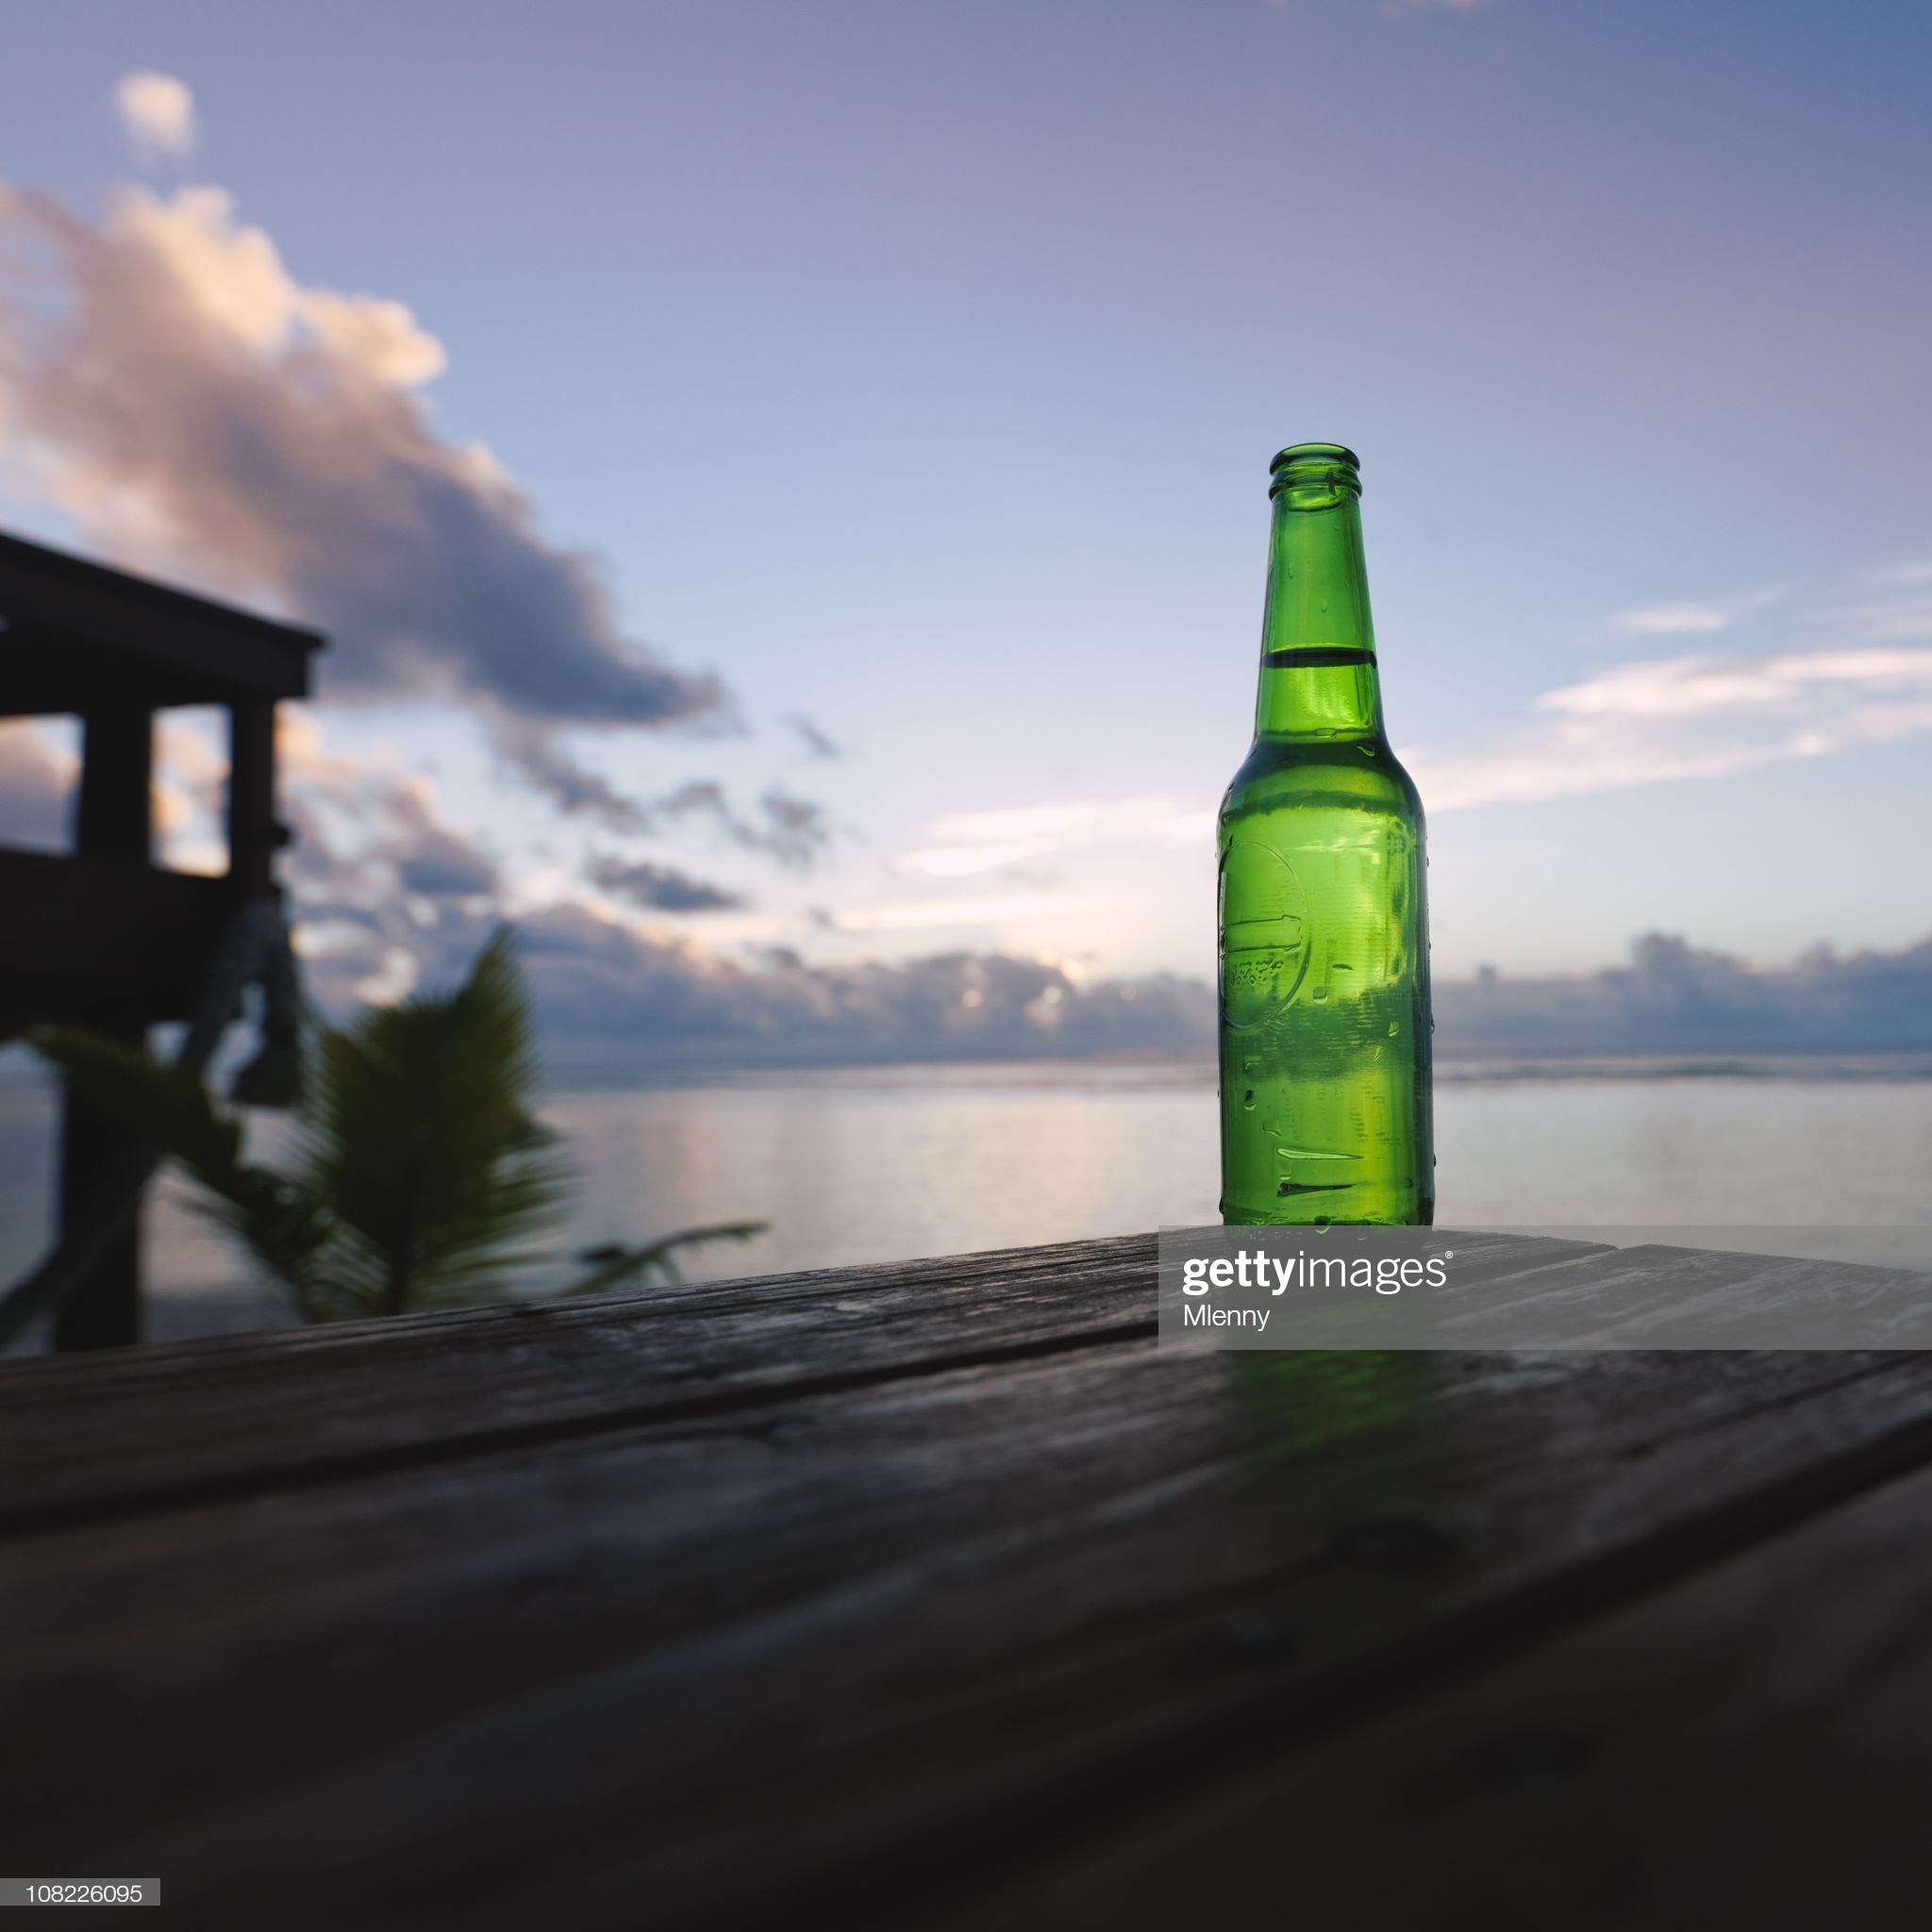beerBottle: (1224, 446, 1454, 1258)
